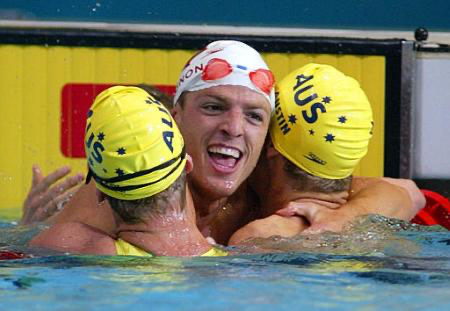Face: (185, 81, 272, 198)
